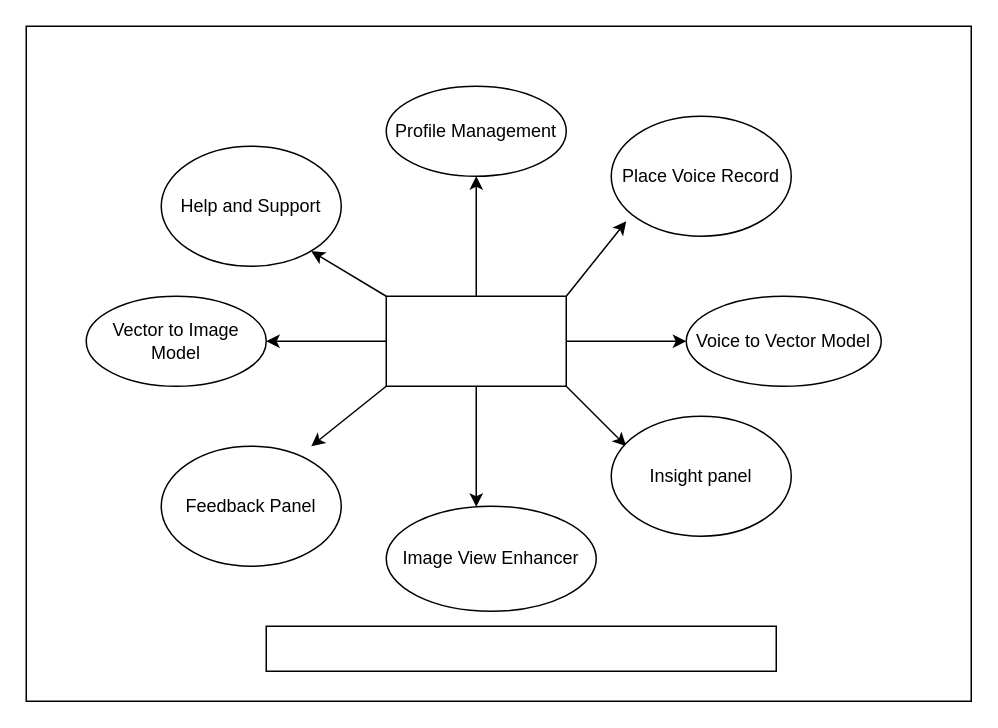
Image size: 998x728. Some labels were removed from this diagram. The centre of each missing label's shape, as x and y in pixels:
"Modular Diagram: Speech2Face" goes at point 520,648.
"Speech2Face" goes at point 475,340.
